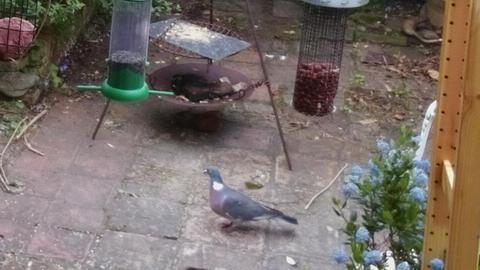wood pigeon: (202, 166, 299, 232)
